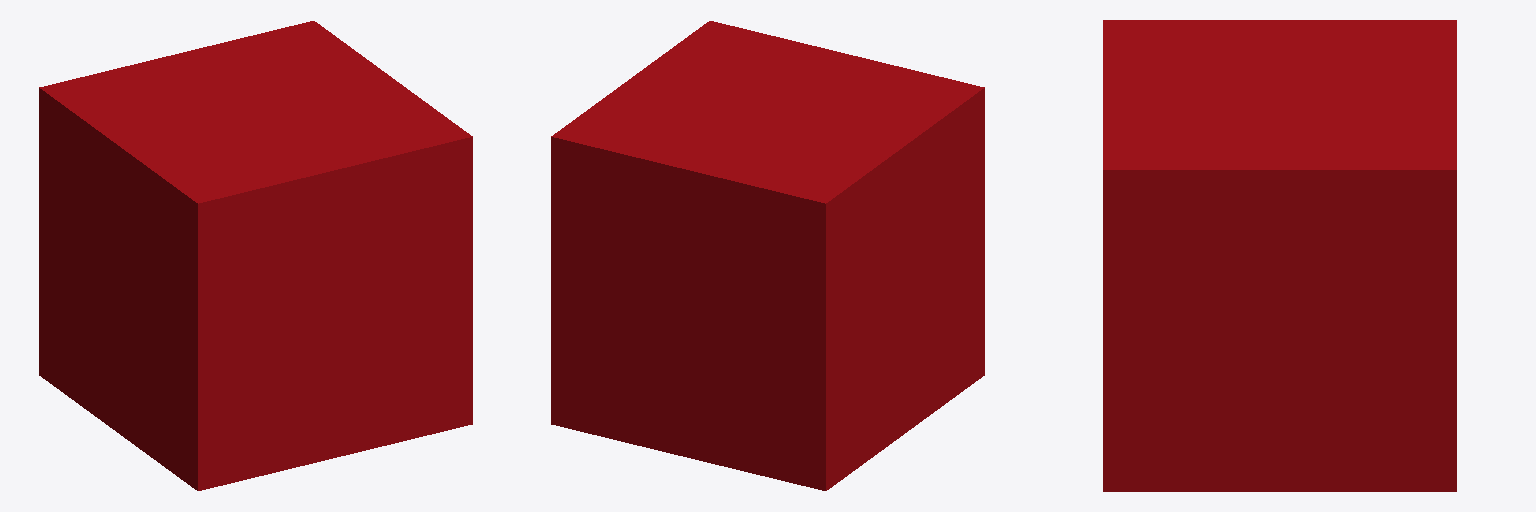
The robot description file, URDF, robot "cube":
<?xml version="1.0" ?>
<robot name="cube">
     <!-- Define materials with different colors -->
    <material name="red">
        <color rgba="0.69 0.09 0.12 1"/>
    </material>
    <material name="green">
        <color rgba="0.0 0.69 0.2 1"/>
    </material>
    <material name="blue">
        <color rgba="0.1 0.1 0.69 1"/>
    </material>
    <material name="yellow">
        <color rgba="0.8 0.8 0.0 1"/>
    </material>
    <material name="purple">
        <color rgba="0.69 0.1 0.69 1"/>
    </material>
    <material name="cyan">
        <color rgba="0.0 0.69 0.69 1"/>
    </material>
    <material name="orange">
        <color rgba="0.95 0.5 0.2 1"/>
    </material>
    <material name="pink">
        <color rgba="1 0.75 0.8 1"/>
    </material>

    <link name="cube_link">
        <contact>
          <lateral_friction value="1"/>
          <rolling_friction value="1"/>
          <spinning_friction value="1"/>

          <inertia_scaling value="0.5"/>
        </contact>

        <inertial>
          <origin rpy="0 0 0" xyz="0 0 0"/>
           <mass value="3"/>
           <inertia ixx="0.0" ixy="0.0" ixz="0.0" iyy="0.0" iyz="0.0" izz="0.0"/>
        </inertial>

        <visual>
          <origin rpy="0 0 0" xyz="0 0 0"/>
          <geometry>
            <box size=".06 .06 .06"/>
          </geometry>
          <material name="red" />
        </visual>

        <collision>
          <origin rpy="0 0 0" xyz="0 0 0"/>
          <geometry>
            <box size=".06 .06 .06"/>
          </geometry>
        </collision>

    </link>


</robot>

--- What the picture shows (computed from the rendered views, not written in the file) ---
The picture shows the robot from 3 angles, left to right: view 1: azimuth 30°, elevation 25°; view 2: azimuth 150°, elevation 25°; view 3: azimuth 270°, elevation 25°; orthographic projection.
Robot: cube — 1 links, 0 joints (none); root link cube_link; default pose: all joints at 0.
Links seen in each view (by area): view 1: cube_link; view 2: cube_link; view 3: cube_link.
Link boxes in pixels (x1,y1,x2,y2): cube_link: [39, 21, 472, 490]; cube_link: [551, 21, 984, 490]; cube_link: [1103, 20, 1456, 491].
Bounding box of the posed robot: 0.06 × 0.06 × 0.06 m (x, y, z).
Geometry: primitives only (box / cylinder / sphere), no mesh files.